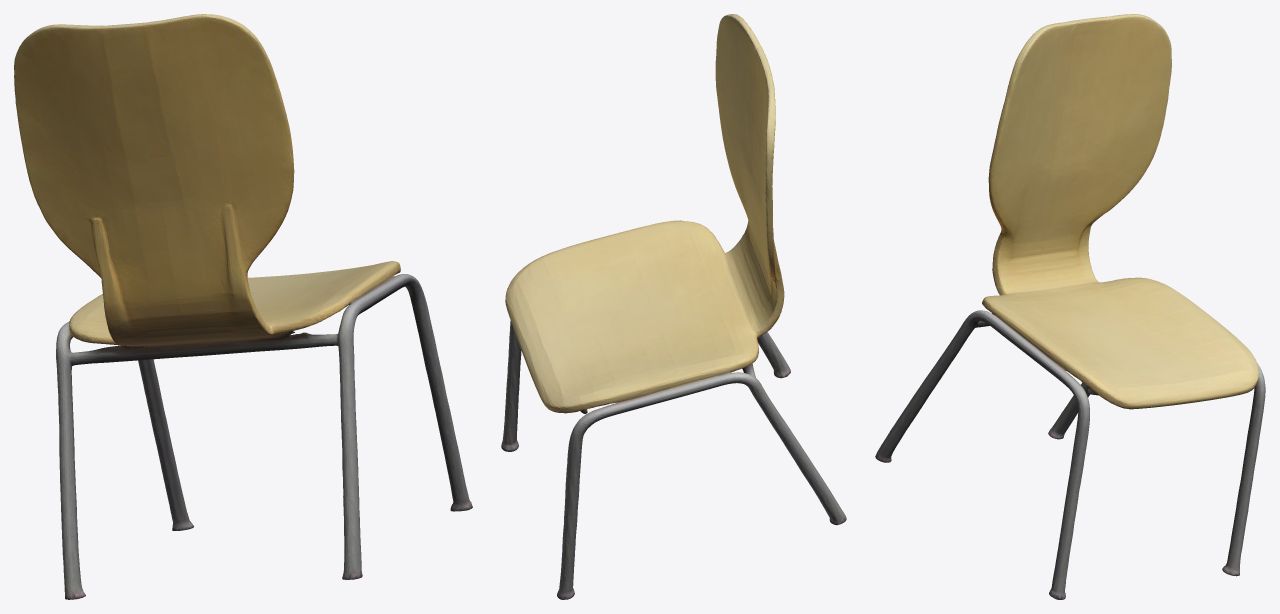
File: light-colored_wooden_chair_partially_visible_on_far_right_edge_000.glb
The picture shows the model from 3 angles, left to right: view 1: azimuth 30°, elevation 25°; view 2: azimuth 150°, elevation 25°; view 3: azimuth 270°, elevation 25°; orthographic projection. The views are drawn at different scales.
Parts seen in each view (by area): view 1: light-colored_wooden_chair_partially_visible_on_far_right_ed; view 2: light-colored_wooden_chair_partially_visible_on_far_right_ed; view 3: light-colored_wooden_chair_partially_visible_on_far_right_ed.
Boxes of the visible parts, box(x1,y1,x2,y2) form: light-colored_wooden_chair_partially_visible_on_far_right_ed: box(14, 14, 472, 599); light-colored_wooden_chair_partially_visible_on_far_right_ed: box(501, 14, 846, 599); light-colored_wooden_chair_partially_visible_on_far_right_ed: box(875, 14, 1265, 599).
Bounding box in the file's own units: 0.2816 × 0.4131 × 0.2866.
Materials: 1 (1 with a texture image).
